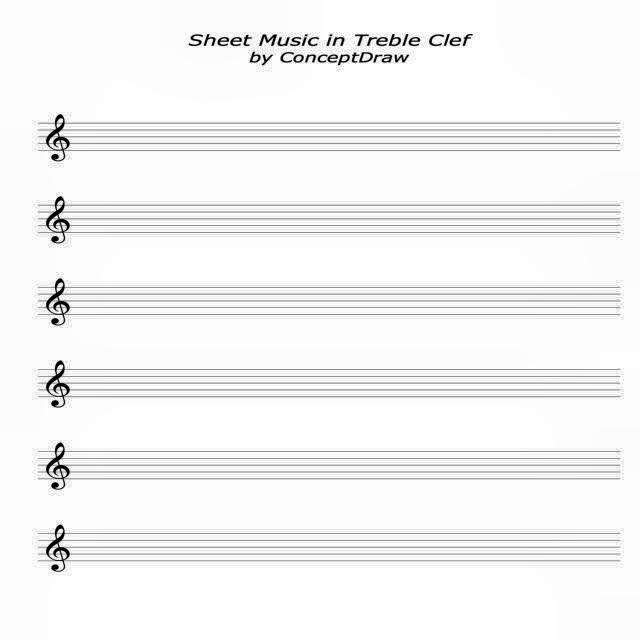Treble-clef: (40, 276, 72, 328), (44, 112, 72, 164), (44, 440, 72, 492), (42, 193, 70, 244), (44, 357, 72, 408), (44, 522, 70, 574)
